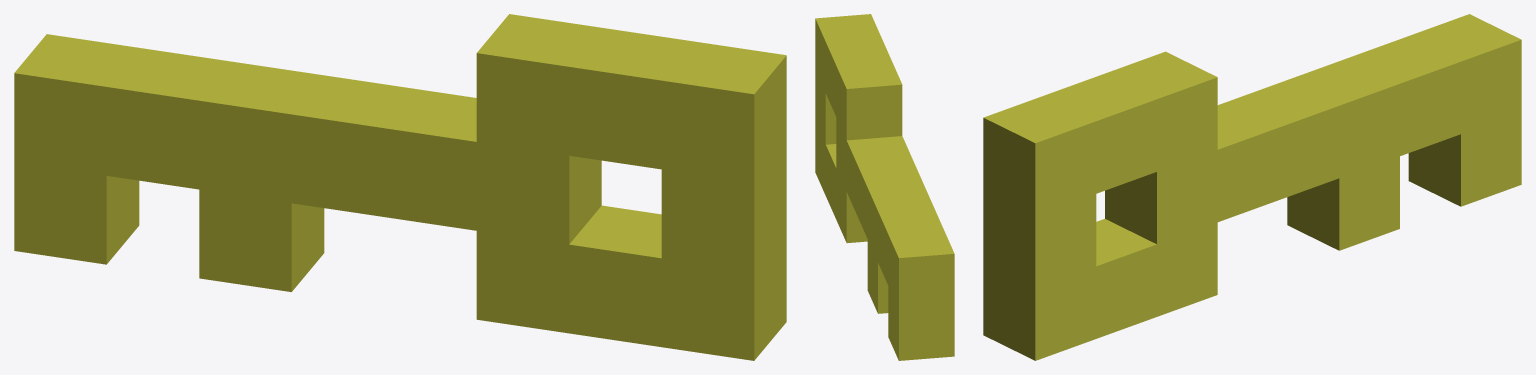
File: adventure-key.fbx
The picture shows the model from 3 angles, left to right: view 1: azimuth 30°, elevation 25°; view 2: azimuth 150°, elevation 25°; view 3: azimuth 270°, elevation 25°; orthographic projection. The views are drawn at different scales.
Visible parts, largest first — view 1: AdentureKey; view 2: AdentureKey; view 3: AdentureKey.
Boxes of the visible parts, <box> form: AdentureKey: <box>14,14,786,360</box>; AdentureKey: <box>815,14,954,360</box>; AdentureKey: <box>983,14,1521,360</box>.
Size of the model in its own units: 1.49 by 0.75 by 1.68.
